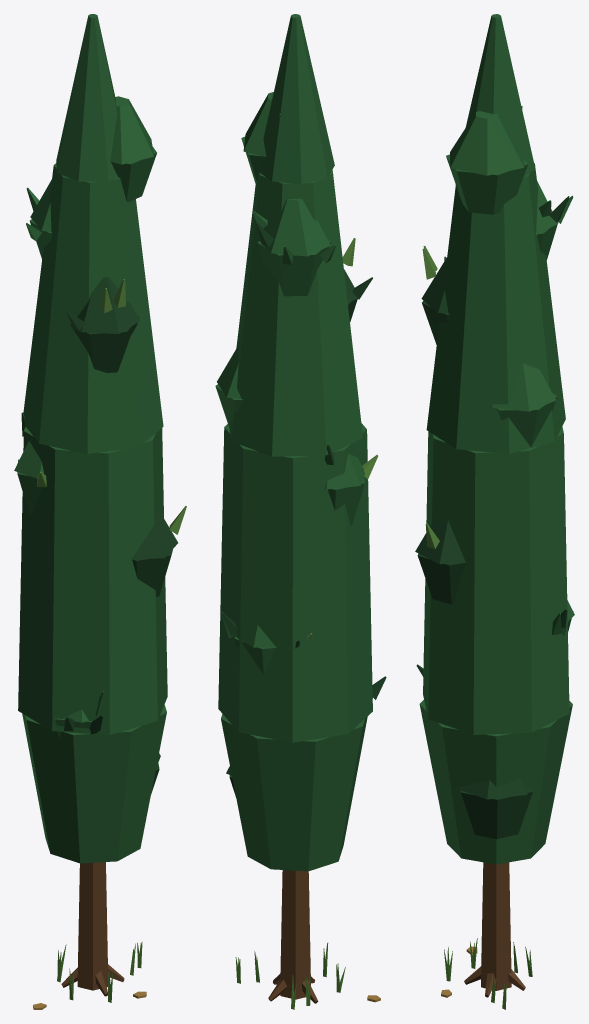
File: tree_poplar.obj
The picture shows the model from 3 angles, left to right: view 1: azimuth 30°, elevation 25°; view 2: azimuth 150°, elevation 25°; view 3: azimuth 270°, elevation 25°; orthographic projection.
Parts seen in each view (by area): view 1: Crown.Core, Crown, Trunk, Tuft, Trunk.Stump, Grass, Root; view 2: Crown.Core, Crown, Trunk, Tuft, Trunk.Stump, Grass, Root; view 3: Crown.Core, Crown, Trunk, Trunk.Stump, Tuft, Grass, Root.
Boxes of the visible parts, x1=… form: Crown.Core: x1=18, y1=14, x2=167, y2=863; Crown: x1=14, y1=96, x2=177, y2=794; Trunk: x1=78, y1=862, x2=107, y2=941; Tuft: x1=21, y1=187, x2=186, y2=734; Trunk.Stump: x1=77, y1=936, x2=107, y2=990; Grass: x1=57, y1=941, x2=142, y2=1002; Root: x1=61, y1=964, x2=124, y2=996; Crown.Core: x1=218, y1=14, x2=372, y2=871; Crown: x1=215, y1=92, x2=373, y2=797; Trunk: x1=281, y1=870, x2=309, y2=950; Tuft: x1=220, y1=114, x2=386, y2=699; Trunk.Stump: x1=280, y1=942, x2=310, y2=999; Grass: x1=235, y1=942, x2=345, y2=1009; Root: x1=268, y1=974, x2=318, y2=1003; Crown.Core: x1=419, y1=14, x2=572, y2=864; Crown: x1=415, y1=111, x2=574, y2=839; Trunk: x1=482, y1=862, x2=510, y2=941; Trunk.Stump: x1=481, y1=936, x2=511, y2=990; Tuft: x1=416, y1=106, x2=573, y2=769; Grass: x1=444, y1=938, x2=532, y2=1009; Root: x1=464, y1=966, x2=525, y2=997.
Bounding box in the file's own units: 3 × 20.04 × 3.
